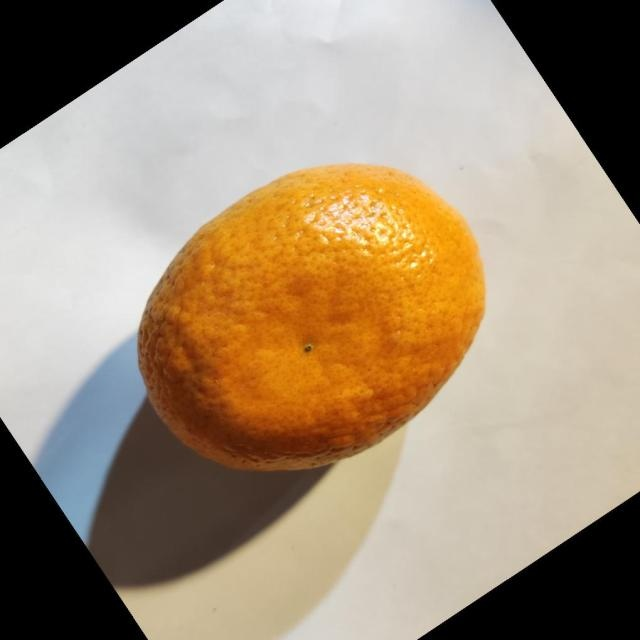agrume: (136, 161, 486, 472)
